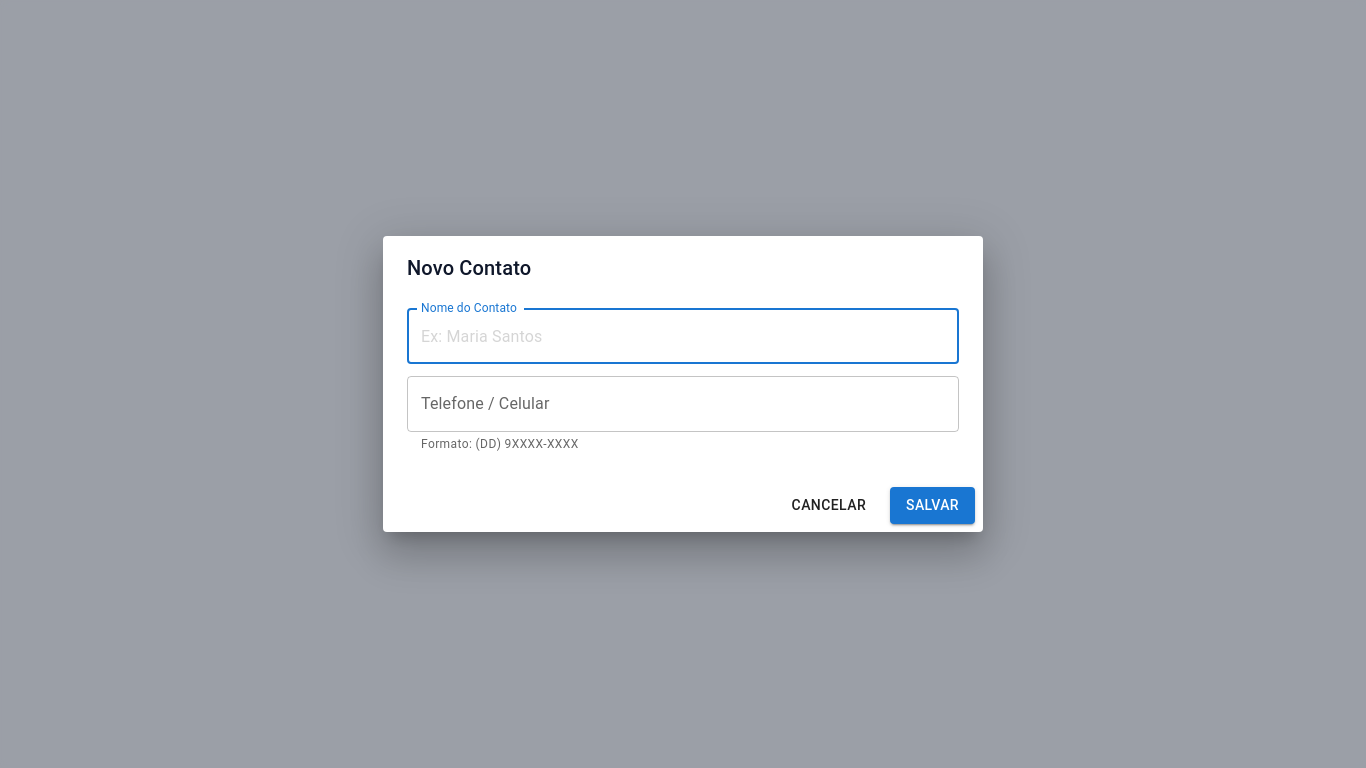
it: ContactDialog › deve validar telefone obrigatorio
Step 1. Type "Carlos Silva" into the field labelled "Nome do Contato" → (683, 336), box [407,308,959,364]
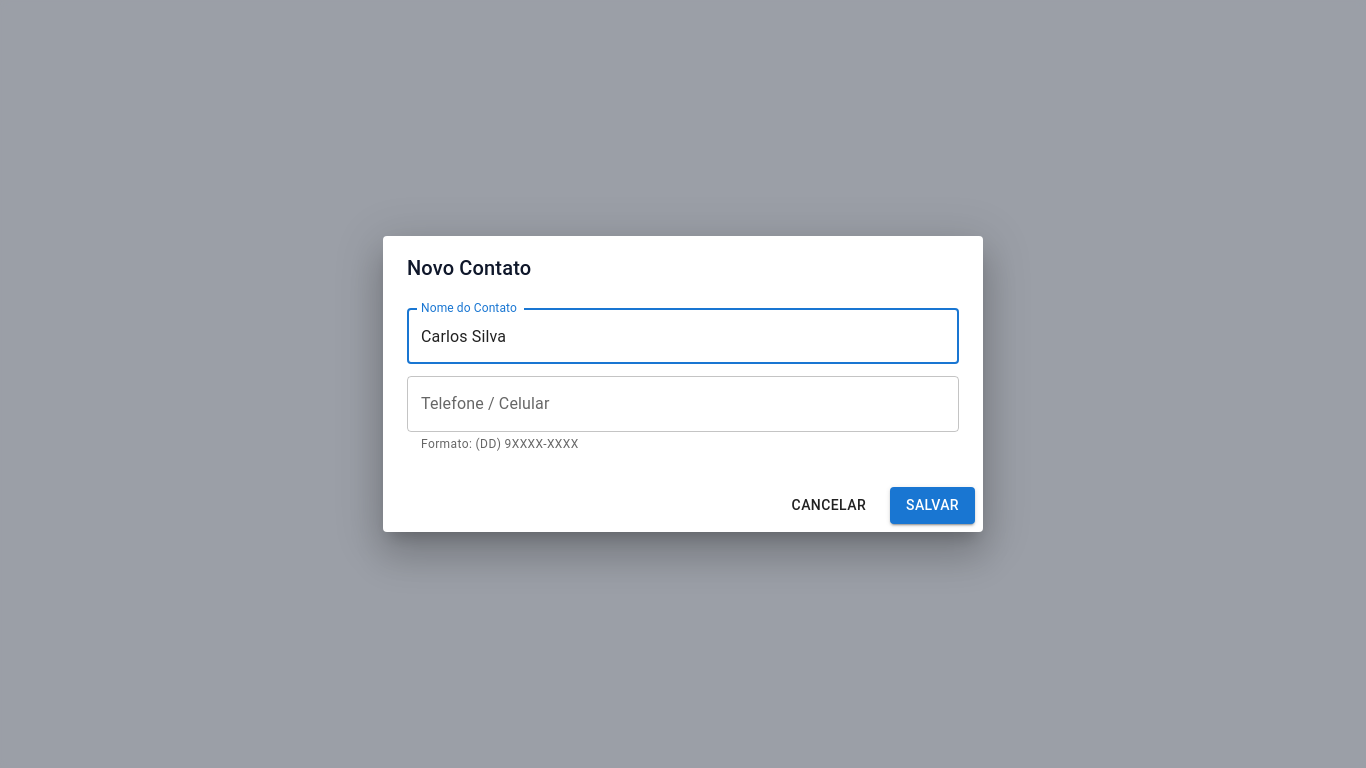
Step 2. Click the button "Salvar" → (932, 505), box [890,487,975,524]
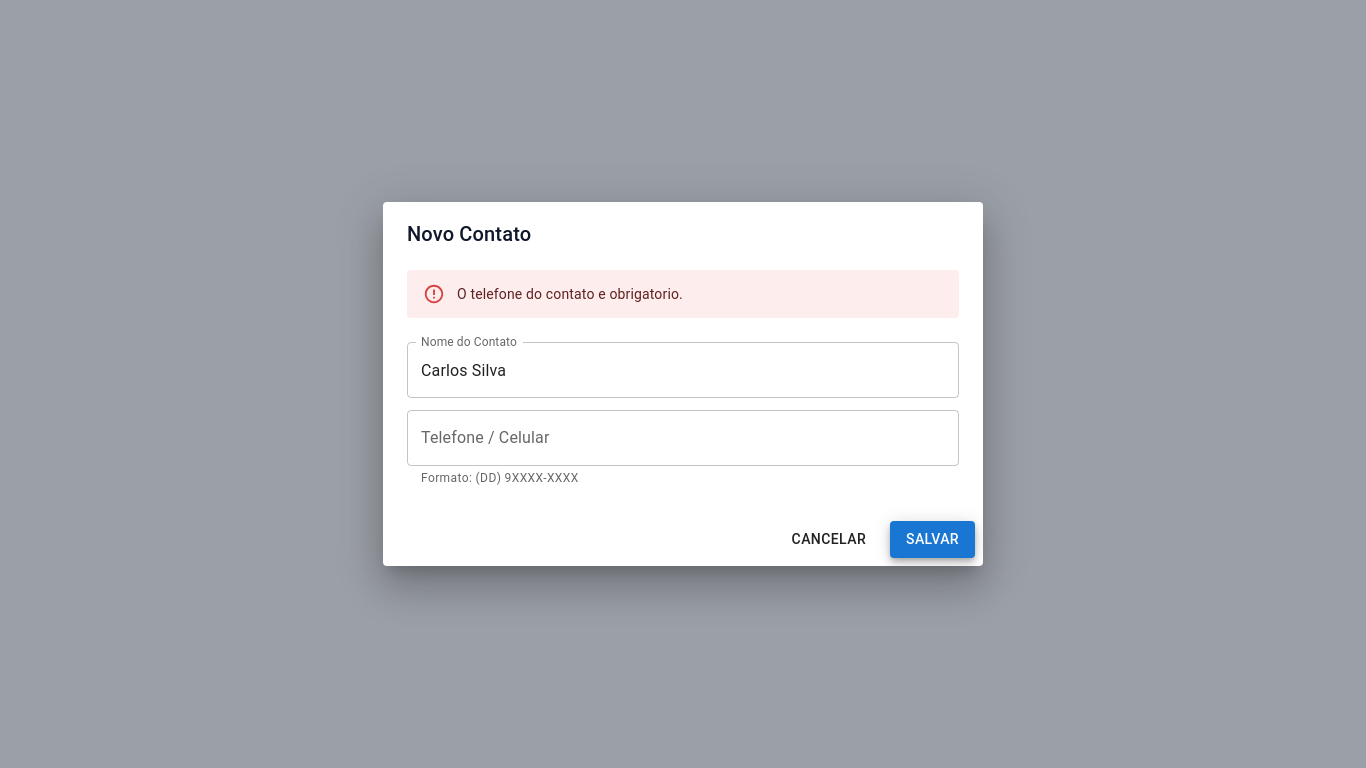
Expected: the text "O telefone do contato e obrigatorio." is shown, [457,286,683,302]
